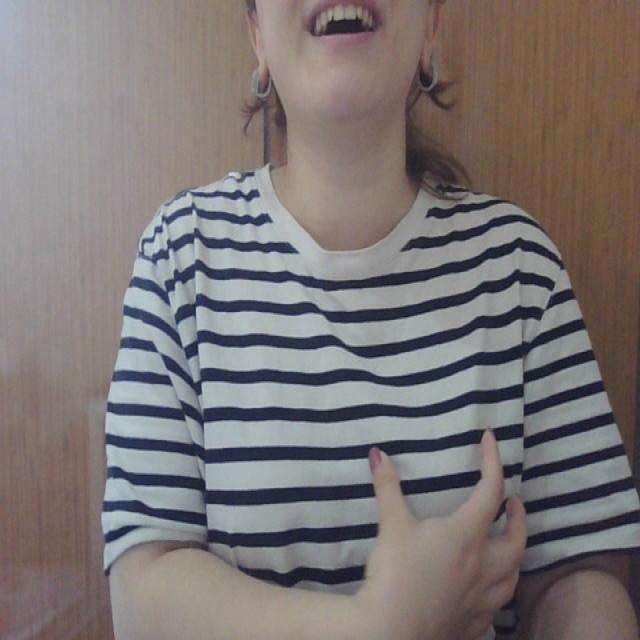Anne: (199, 419, 545, 640)
